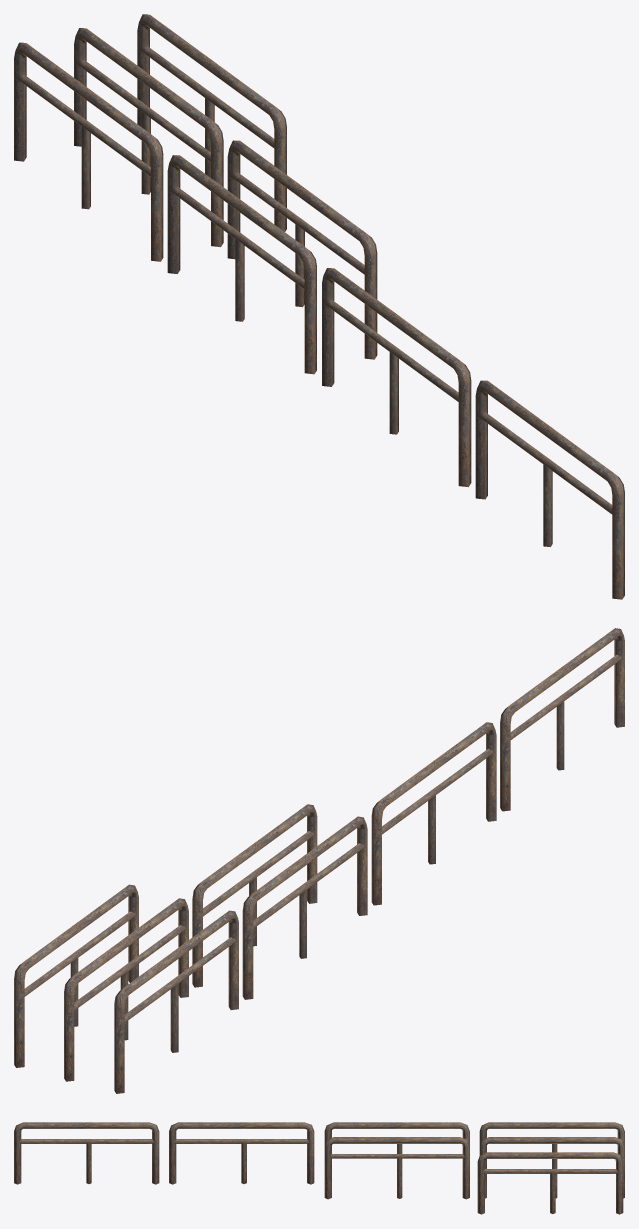
File: Support_set_v1_railing3.FBX
3 views of the same model, one above another, from view 1: azimuth 30°, elevation 25°; view 2: azimuth 150°, elevation 25°; view 3: azimuth 270°, elevation 25° (orthographic). The views are drawn at different scales.
Parts seen in each view (by area): view 1: Support_set_v1_railing3_3, Support_set_v1_railing3_2, Support_set_v1_railing3_1; view 2: Support_set_v1_railing3_3, Support_set_v1_railing3_2, Support_set_v1_railing3_1; view 3: Support_set_v1_railing3_3, Support_set_v1_railing3_2, Support_set_v1_railing3_1.
Boxes of the visible parts, box(x1,y1,x2,y2) form: Support_set_v1_railing3_3: box(14, 42, 624, 599); Support_set_v1_railing3_2: box(74, 28, 377, 359); Support_set_v1_railing3_1: box(137, 14, 286, 231); Support_set_v1_railing3_3: box(114, 628, 624, 1093); Support_set_v1_railing3_2: box(64, 804, 317, 1081); Support_set_v1_railing3_1: box(14, 884, 138, 1067); Support_set_v1_railing3_3: box(14, 1122, 624, 1184); Support_set_v1_railing3_2: box(324, 1137, 624, 1199); Support_set_v1_railing3_1: box(477, 1152, 623, 1214).
Bounding box in the file's own units: 1.34 × 1.15 × 10.47.
